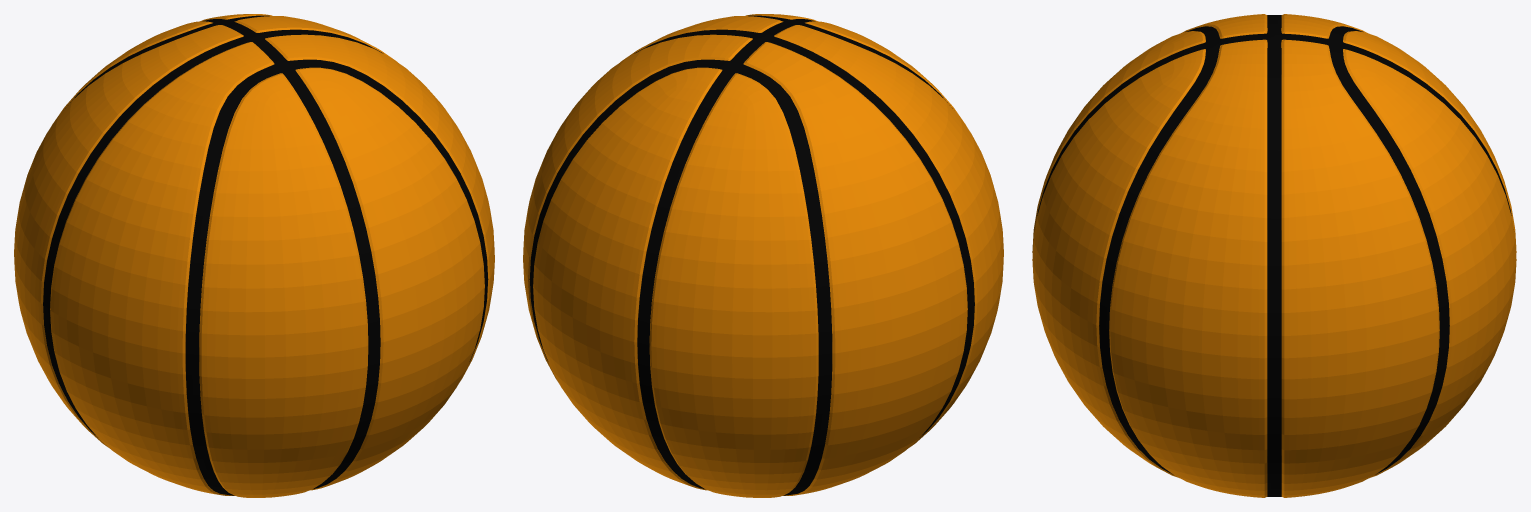
Rendered from BasketballModel.fbx.
The picture shows the model from 3 angles, left to right: view 1: azimuth 30°, elevation 25°; view 2: azimuth 150°, elevation 25°; view 3: azimuth 270°, elevation 25°; orthographic projection.
Visible parts, largest first — view 1: Basketball; view 2: Basketball; view 3: Basketball.
Boxes of the visible parts, x1,y1,x2,y2 form: Basketball: (14, 14, 494, 497); Basketball: (523, 14, 1003, 497); Basketball: (1032, 14, 1516, 497).
Size of the model in its own units: 193 by 193 by 193.
